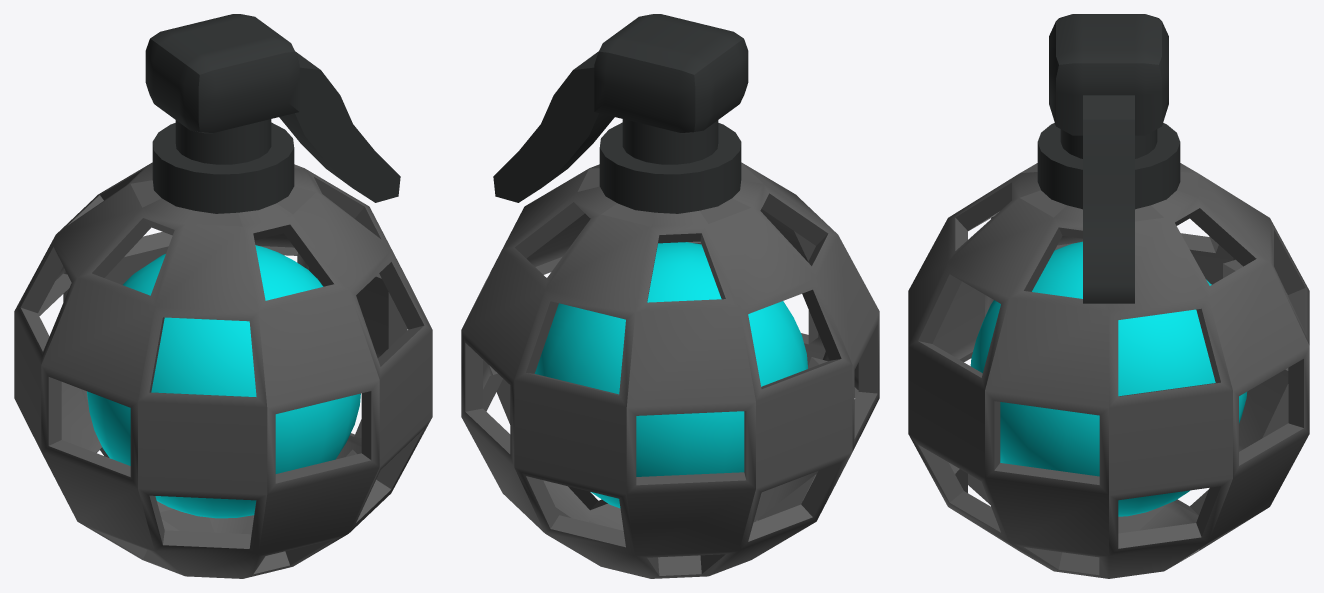
Rendered from weapon_granadePlasma_model.fbx.
The picture shows the model from 3 angles, left to right: view 1: azimuth 30°, elevation 25°; view 2: azimuth 150°, elevation 25°; view 3: azimuth 270°, elevation 25°; orthographic projection.
Parts seen in each view (by area): view 1: Granate_Plasma; view 2: Granate_Plasma; view 3: Granate_Plasma.
Boxes of the visible parts, x1,y1,x2,y2 form: Granate_Plasma: (14,14,432,578); Granate_Plasma: (461,14,879,578); Granate_Plasma: (908,14,1309,578).
Size of the model in its own units: 5.82 by 8 by 5.53.
